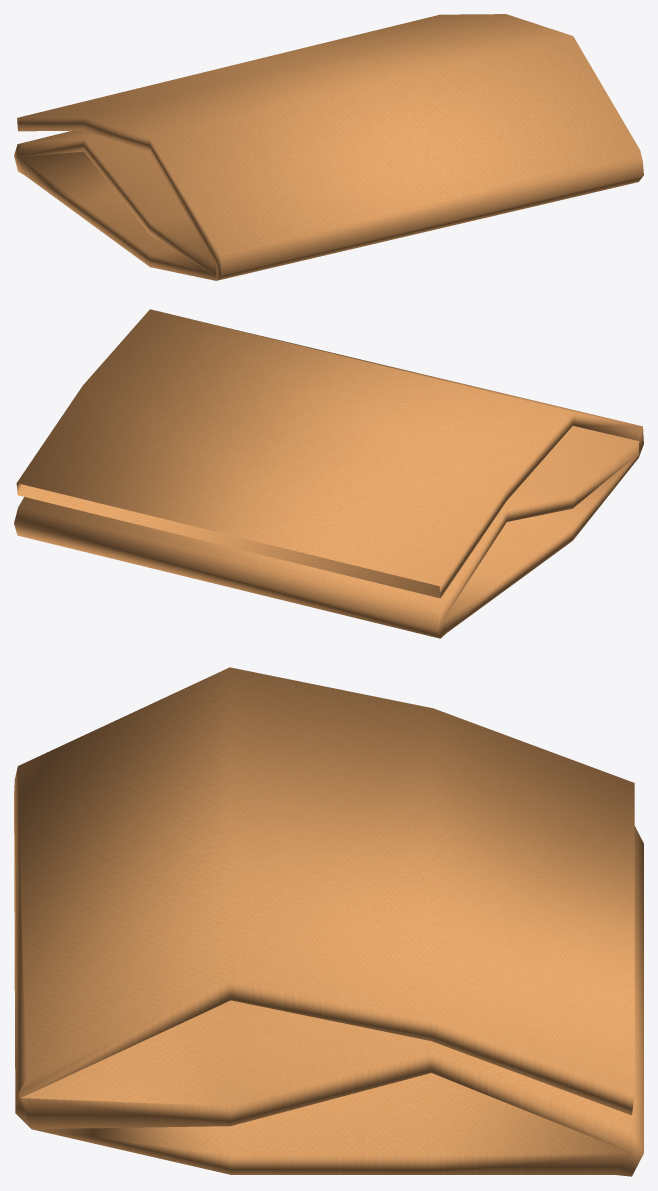
File: Blanket_D.FBX
3 views of the same model, one above another, from view 1: azimuth 30°, elevation 25°; view 2: azimuth 150°, elevation 25°; view 3: azimuth 270°, elevation 25° (orthographic). The views are drawn at different scales.
Visible parts, largest first — view 1: Blanket; view 2: Blanket; view 3: Blanket.
Boxes of the visible parts, left/top/right/bottom form: Blanket: left=14, top=14, right=643, bottom=280; Blanket: left=14, top=309, right=643, bottom=638; Blanket: left=14, top=667, right=643, bottom=1176.
Bounding box in the file's own units: 123 × 35.98 × 105.
